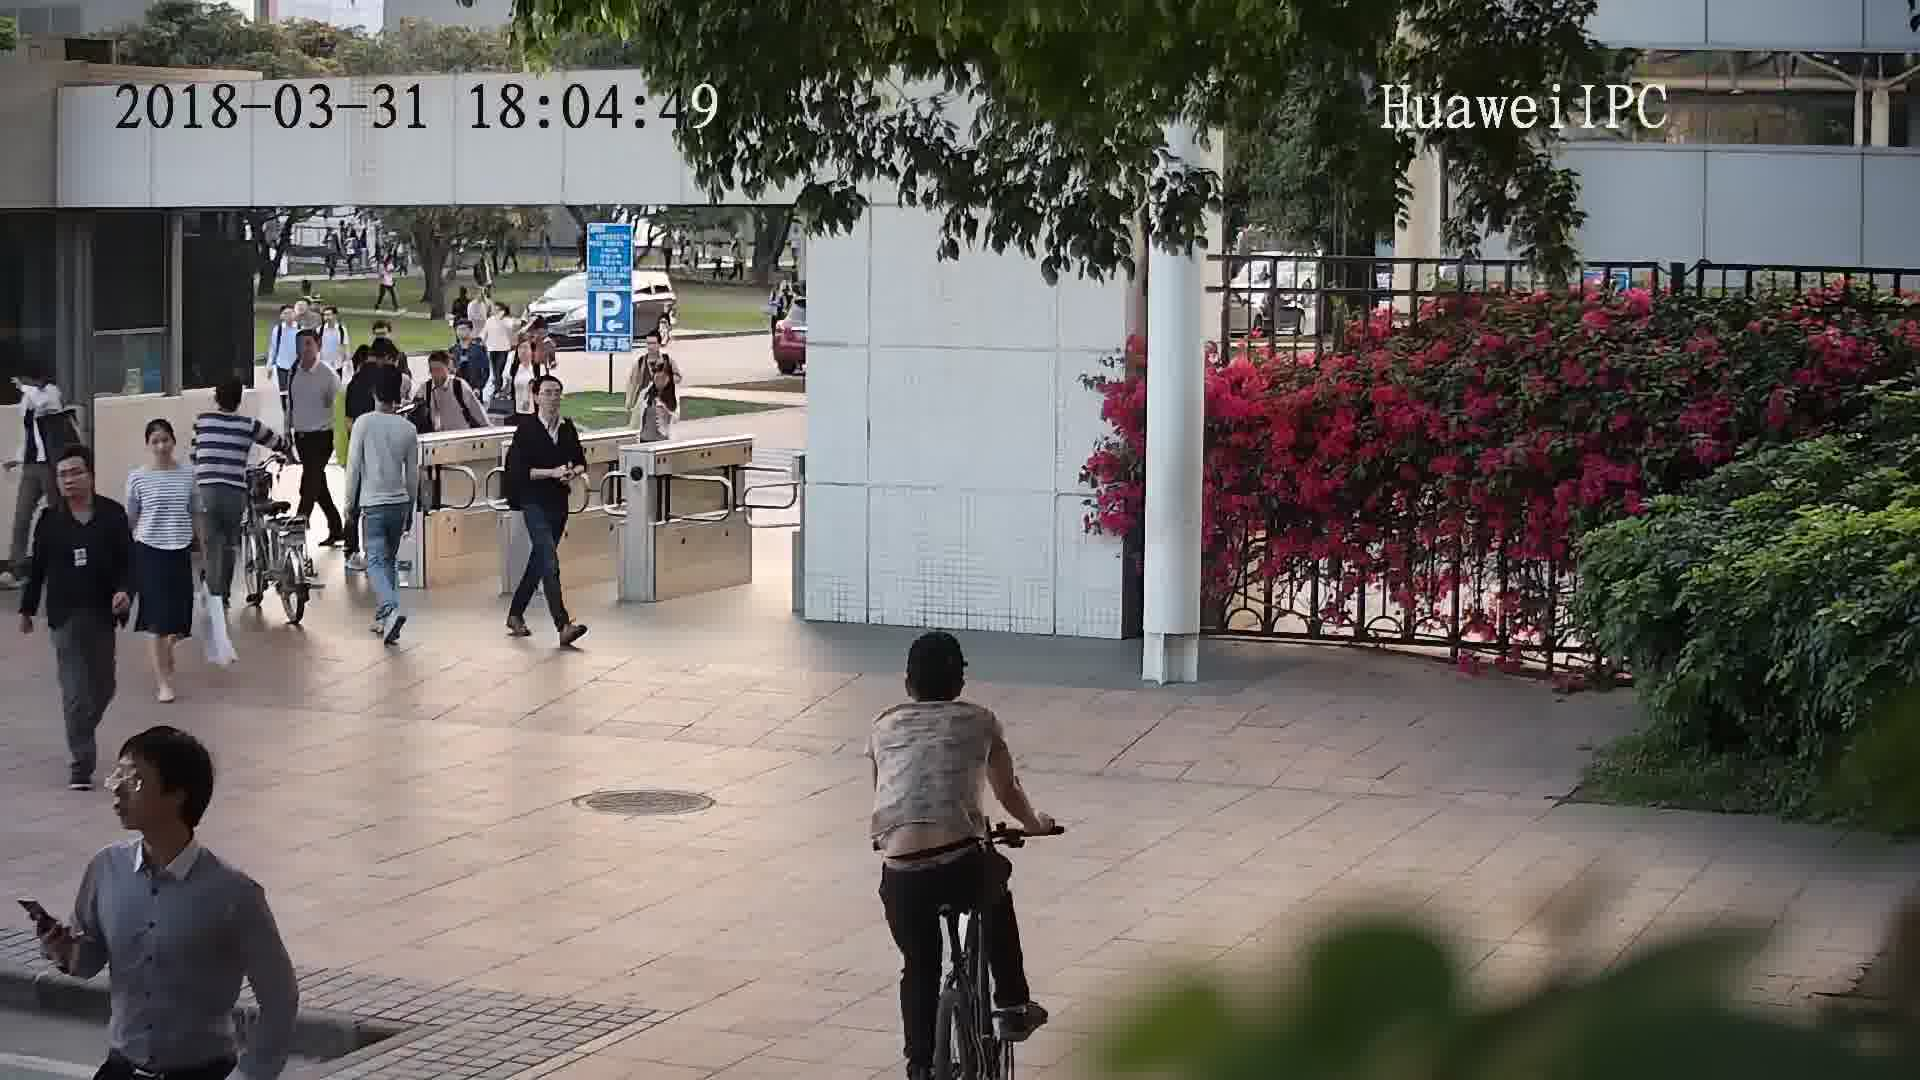face: (101, 751, 183, 833), (52, 455, 93, 501), (531, 379, 567, 416), (146, 426, 177, 460)
person: (80, 727, 266, 912), (869, 629, 1002, 751), (34, 444, 128, 539), (130, 413, 207, 490), (512, 373, 586, 445), (353, 370, 416, 440), (200, 374, 264, 437), (290, 327, 343, 388), (19, 355, 71, 407), (346, 340, 392, 394), (422, 347, 472, 396), (639, 361, 682, 410), (506, 336, 551, 381), (451, 316, 491, 364), (635, 326, 678, 368), (316, 302, 350, 338), (273, 305, 307, 336), (487, 299, 520, 331)
